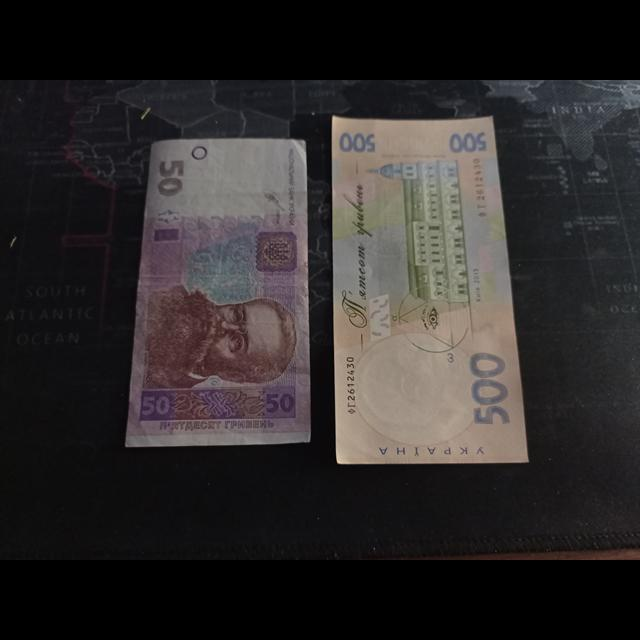500uah: (332, 114, 532, 463)
50uah: (137, 144, 313, 442)
